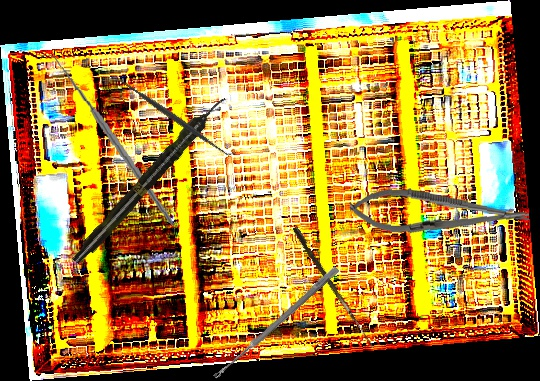Handpiece: (68, 91, 231, 268)
Hook Surgical: (41, 45, 175, 235), (290, 226, 379, 348)
Needle Holder: (348, 185, 531, 241)
Spatula Surgical: (112, 70, 237, 165)
Surgical Spoon: (212, 265, 340, 381)
